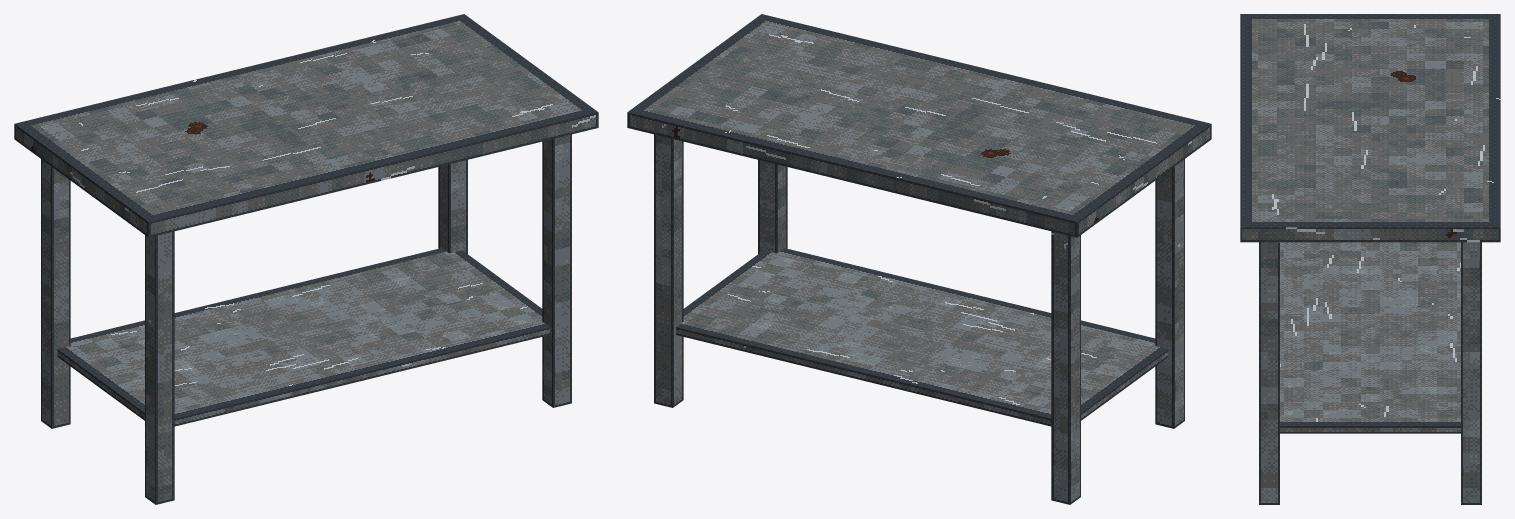
File: SM_Table_Steel_01.glb
The picture shows the model from 3 angles, left to right: view 1: azimuth 30°, elevation 25°; view 2: azimuth 150°, elevation 25°; view 3: azimuth 270°, elevation 25°; orthographic projection. The views are drawn at different scales.
Visible parts, largest first — view 1: SM_Table_Steel_01; view 2: SM_Table_Steel_01; view 3: SM_Table_Steel_01.
Boxes of the visible parts, box(x1,y1,x2,y2) form: SM_Table_Steel_01: box(14, 14, 598, 504); SM_Table_Steel_01: box(627, 14, 1211, 504); SM_Table_Steel_01: box(1240, 14, 1500, 504).
Bounding box in the file's own units: 1.2 × 0.75 × 0.62.
Materials: 1 (1 with a texture image).
